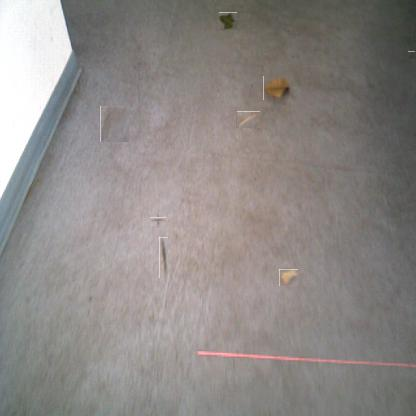dirty: (263, 76, 290, 100), (236, 111, 260, 128), (279, 268, 298, 286), (220, 12, 237, 30)
mark: (100, 106, 129, 142), (159, 237, 168, 278), (84, 295, 92, 317), (153, 215, 164, 225), (408, 51, 416, 58), (405, 14, 411, 22)
